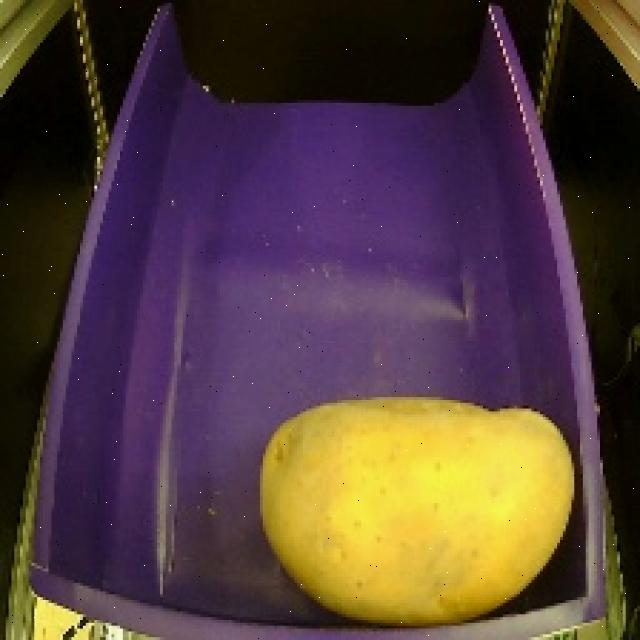full_potato: (247, 388, 592, 631)
